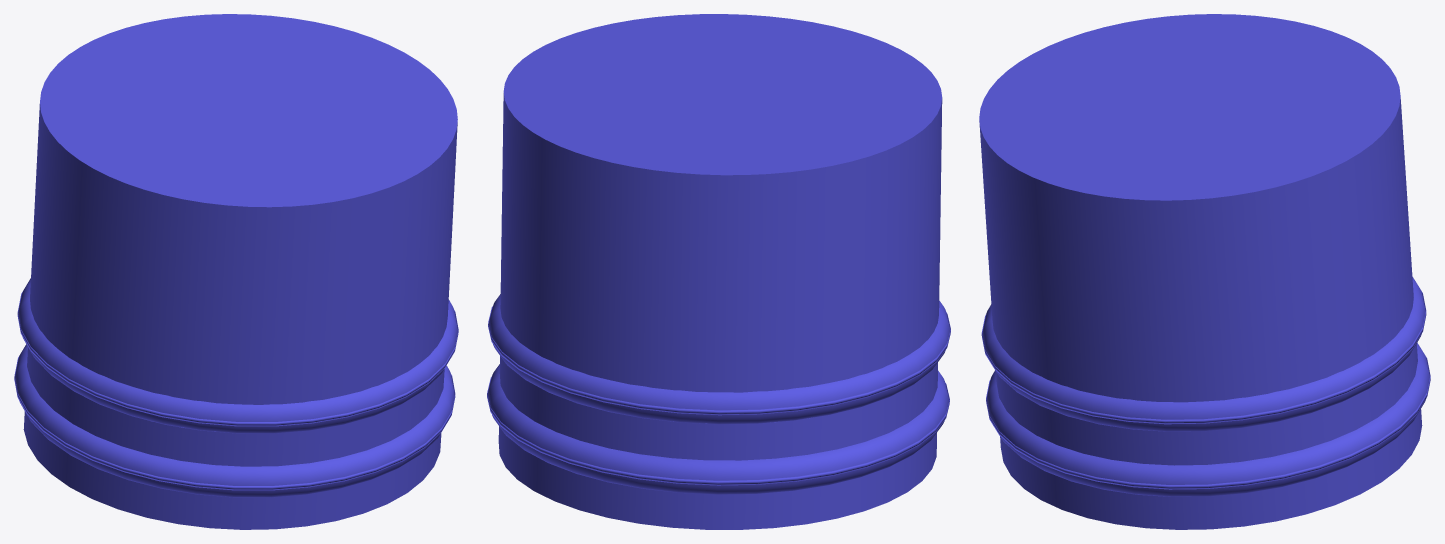
File: bombilla203.obj
3 views of the same model, side by side, from view 1: azimuth 30°, elevation 25°; view 2: azimuth 150°, elevation 25°; view 3: azimuth 270°, elevation 25° (orthographic). The views are drawn at different scales.
Visible parts, largest first — view 1: Cylinder001, Cylinder004, Cylinder002, Cylinder003, Cylinder006; view 2: Cylinder001, Cylinder004, Cylinder003, Cylinder006, Cylinder002; view 3: Cylinder001, Cylinder004, Cylinder003, Cylinder002, Cylinder006.
Boxes of the visible parts, x1=… form: Cylinder001: x1=30, y1=14, x2=457, y2=404; Cylinder004: x1=14, y1=344, x2=455, y2=497; Cylinder002: x1=17, y1=278, x2=458, y2=433; Cylinder003: x1=27, y1=347, x2=444, y2=466; Cylinder006: x1=23, y1=411, x2=441, y2=529; Cylinder001: x1=500, y1=14, x2=942, y2=392; Cylinder004: x1=487, y1=364, x2=949, y2=494; Cylinder003: x1=499, y1=356, x2=937, y2=460; Cylinder006: x1=498, y1=426, x2=936, y2=529; Cylinder002: x1=488, y1=294, x2=950, y2=424; Cylinder001: x1=979, y1=14, x2=1413, y2=402; Cylinder004: x1=986, y1=342, x2=1430, y2=496; Cylinder003: x1=995, y1=344, x2=1417, y2=465; Cylinder002: x1=981, y1=276, x2=1426, y2=431; Cylinder006: x1=1000, y1=409, x2=1422, y2=529.
Bounding box in the file's own units: 72.45 × 63.66 × 73.23.
